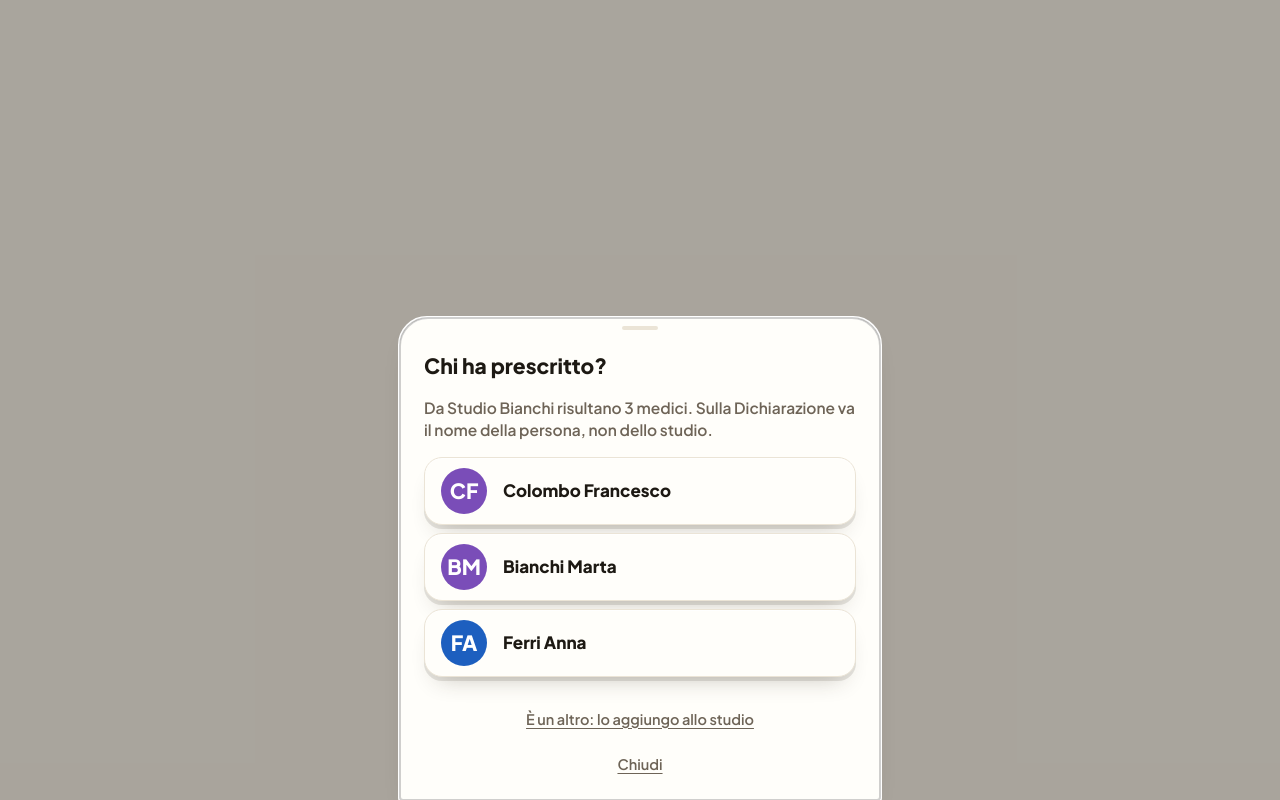
ChiHaPrescrittoSheet (Task 10, P37/D211) › «È un altro» → «Torna all'elenco» torna alla lista, NIENTE rete, il testo digitato resta se si riapre
Step 1. Click the button "È un altro: lo aggiungo allo studio" → (640, 719), box [526,696,754,743]
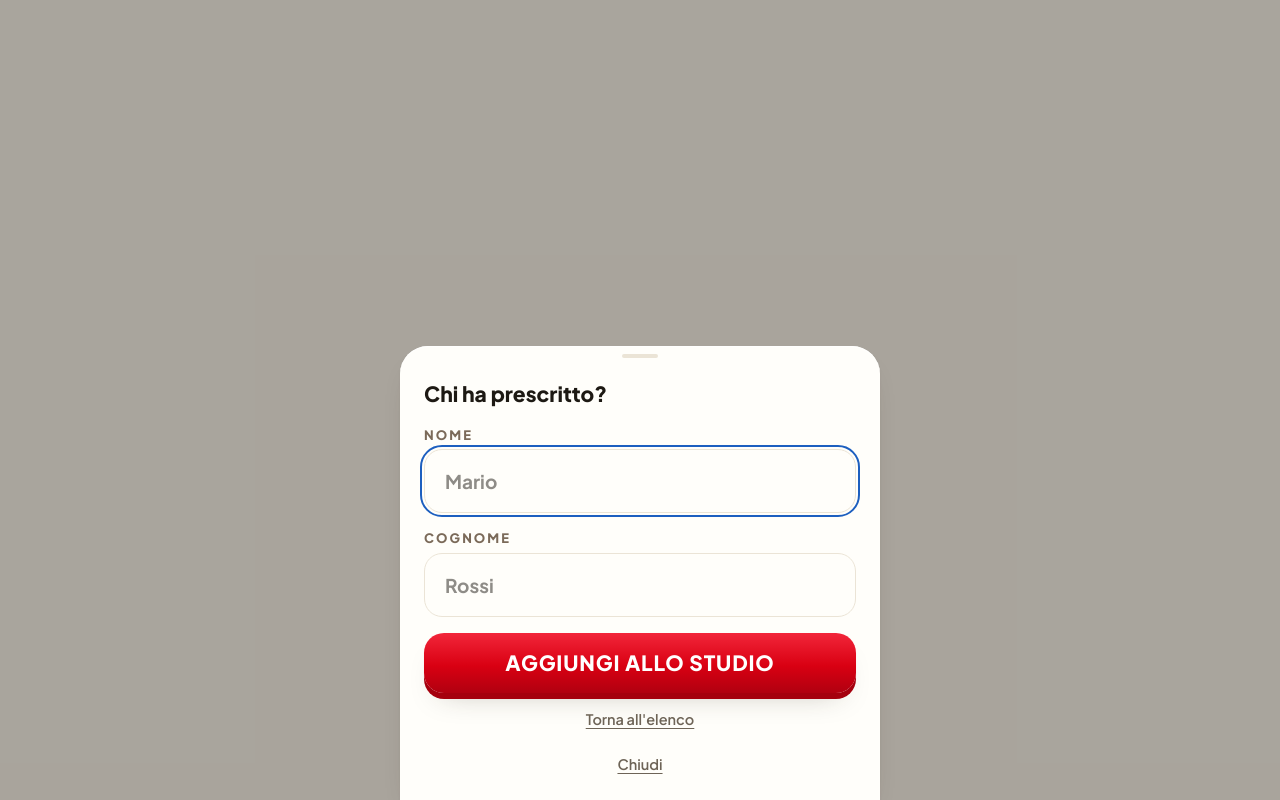
Step 2. Type "Luca" into the field labelled "Nome" → (640, 481), box [424,449,856,513]
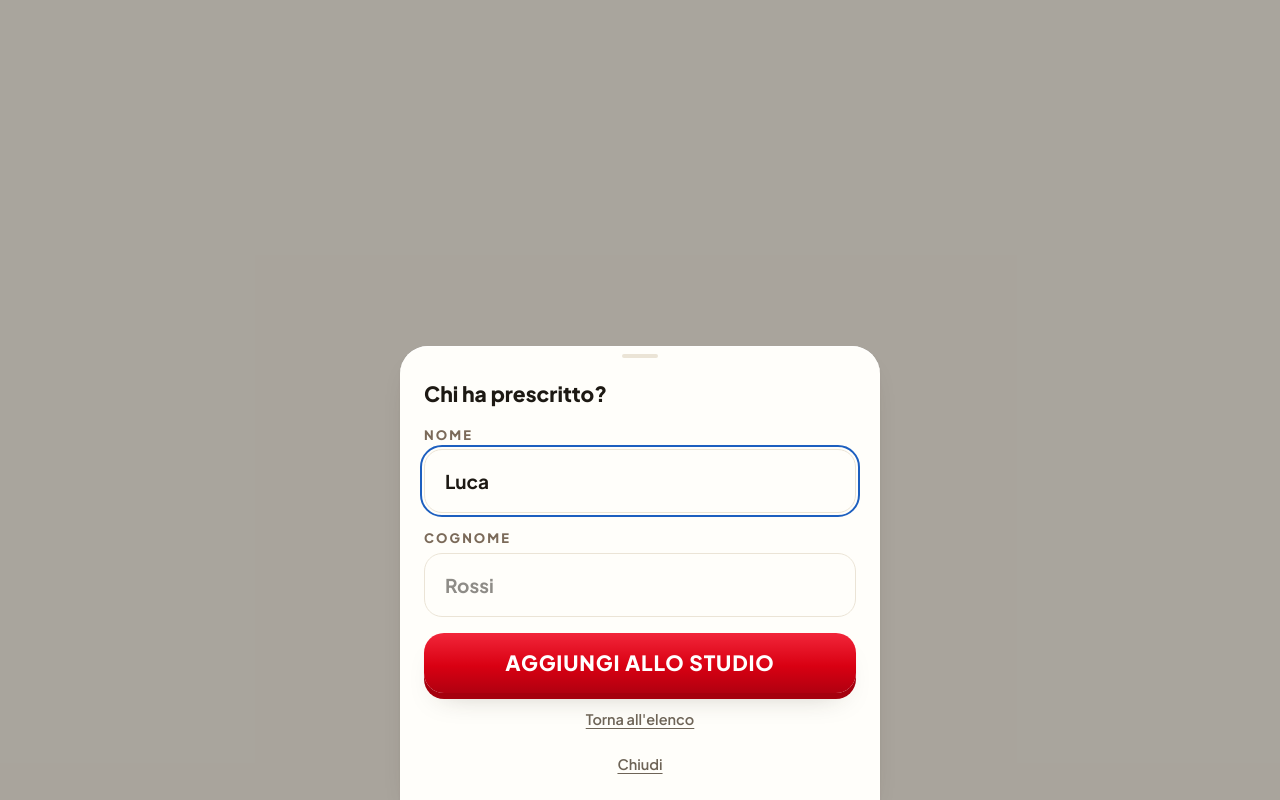
Step 3. Type "Verdi" into the field labelled "Cognome" → (640, 584), box [424,552,856,616]
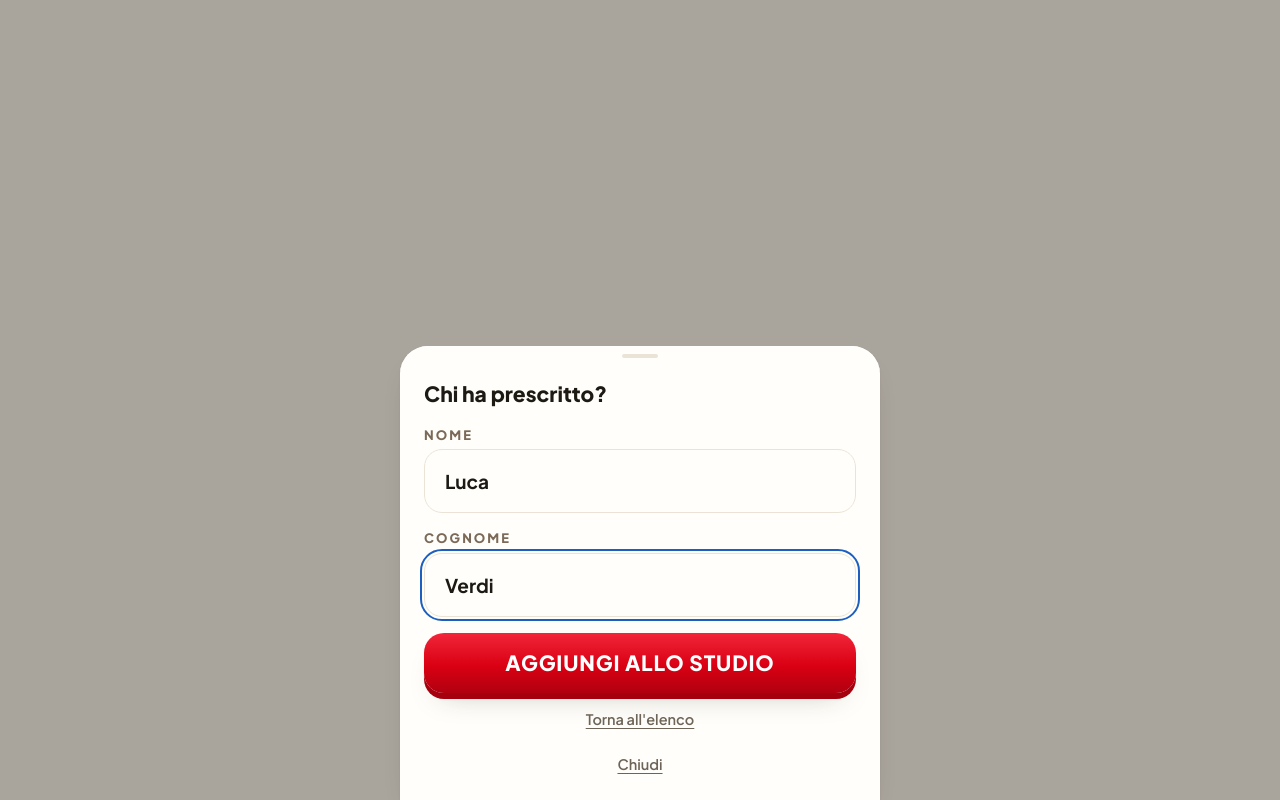
Step 4. Click the button "Torna all'elenco" → (640, 719), box [586,696,694,743]
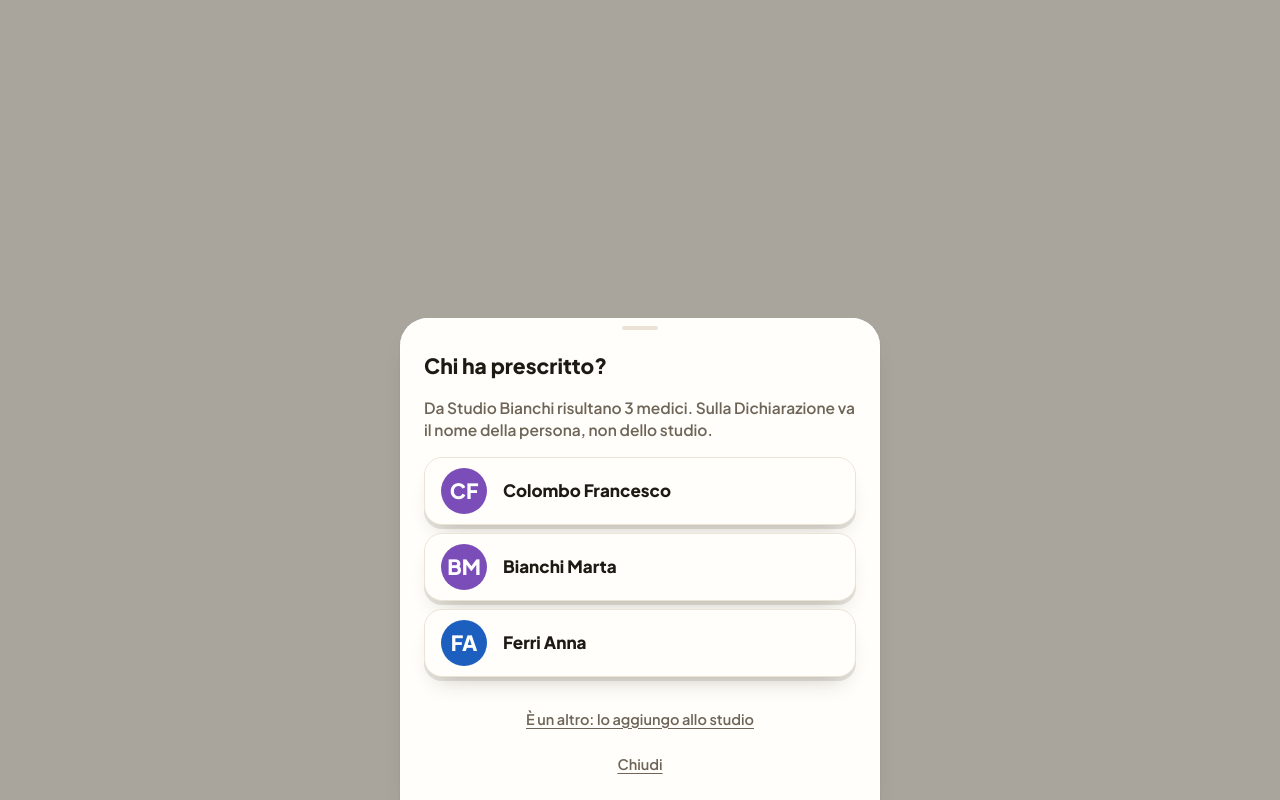
Expected: the button "CF Colombo Francesco" is shown, [424,456,856,524]
Step 5. Click the button "È un altro: lo aggiungo allo studio" → (640, 719), box [526,696,754,743]
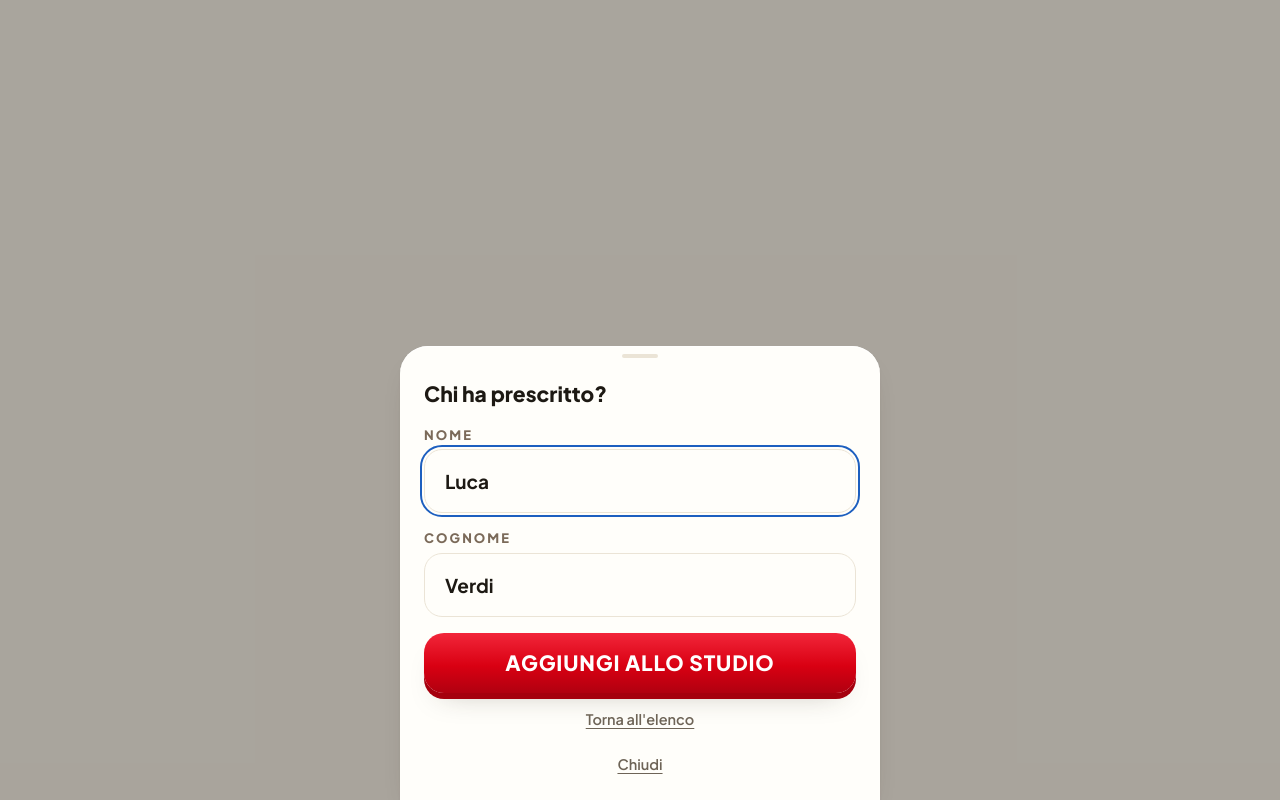
Expected: the field labelled "Nome" holds "Luca", [424,449,856,513]
Expected: the field labelled "Cognome" holds "Verdi", [424,552,856,616]
